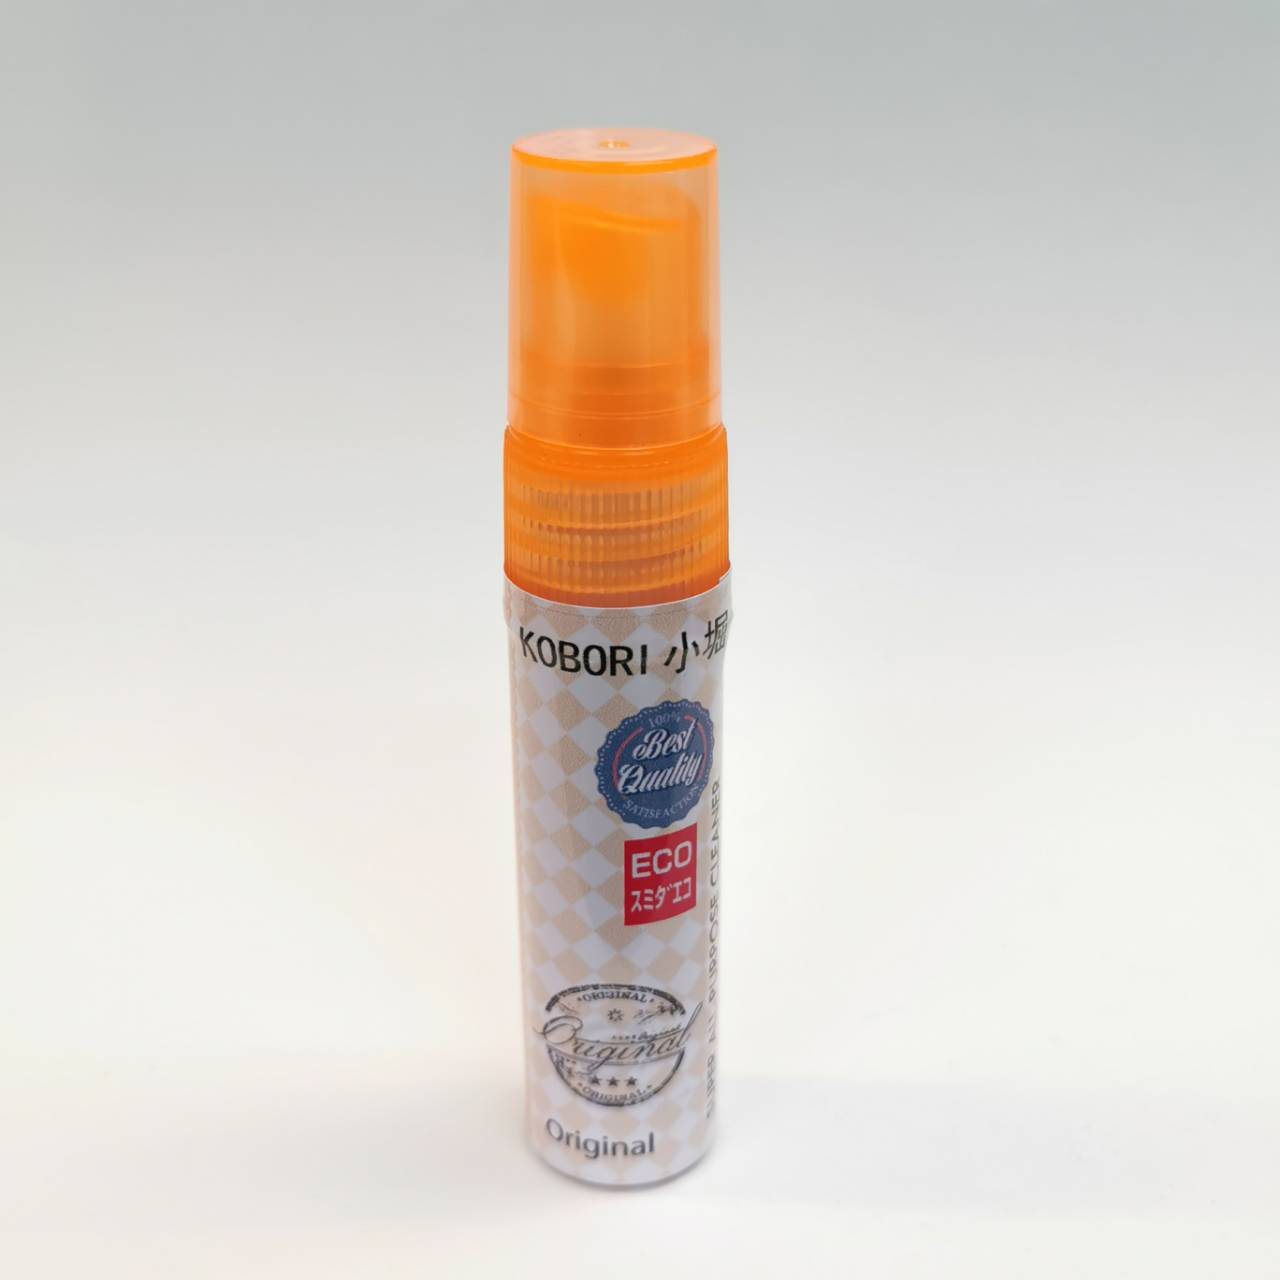Cleaning_solution: (478, 107, 743, 1201)
